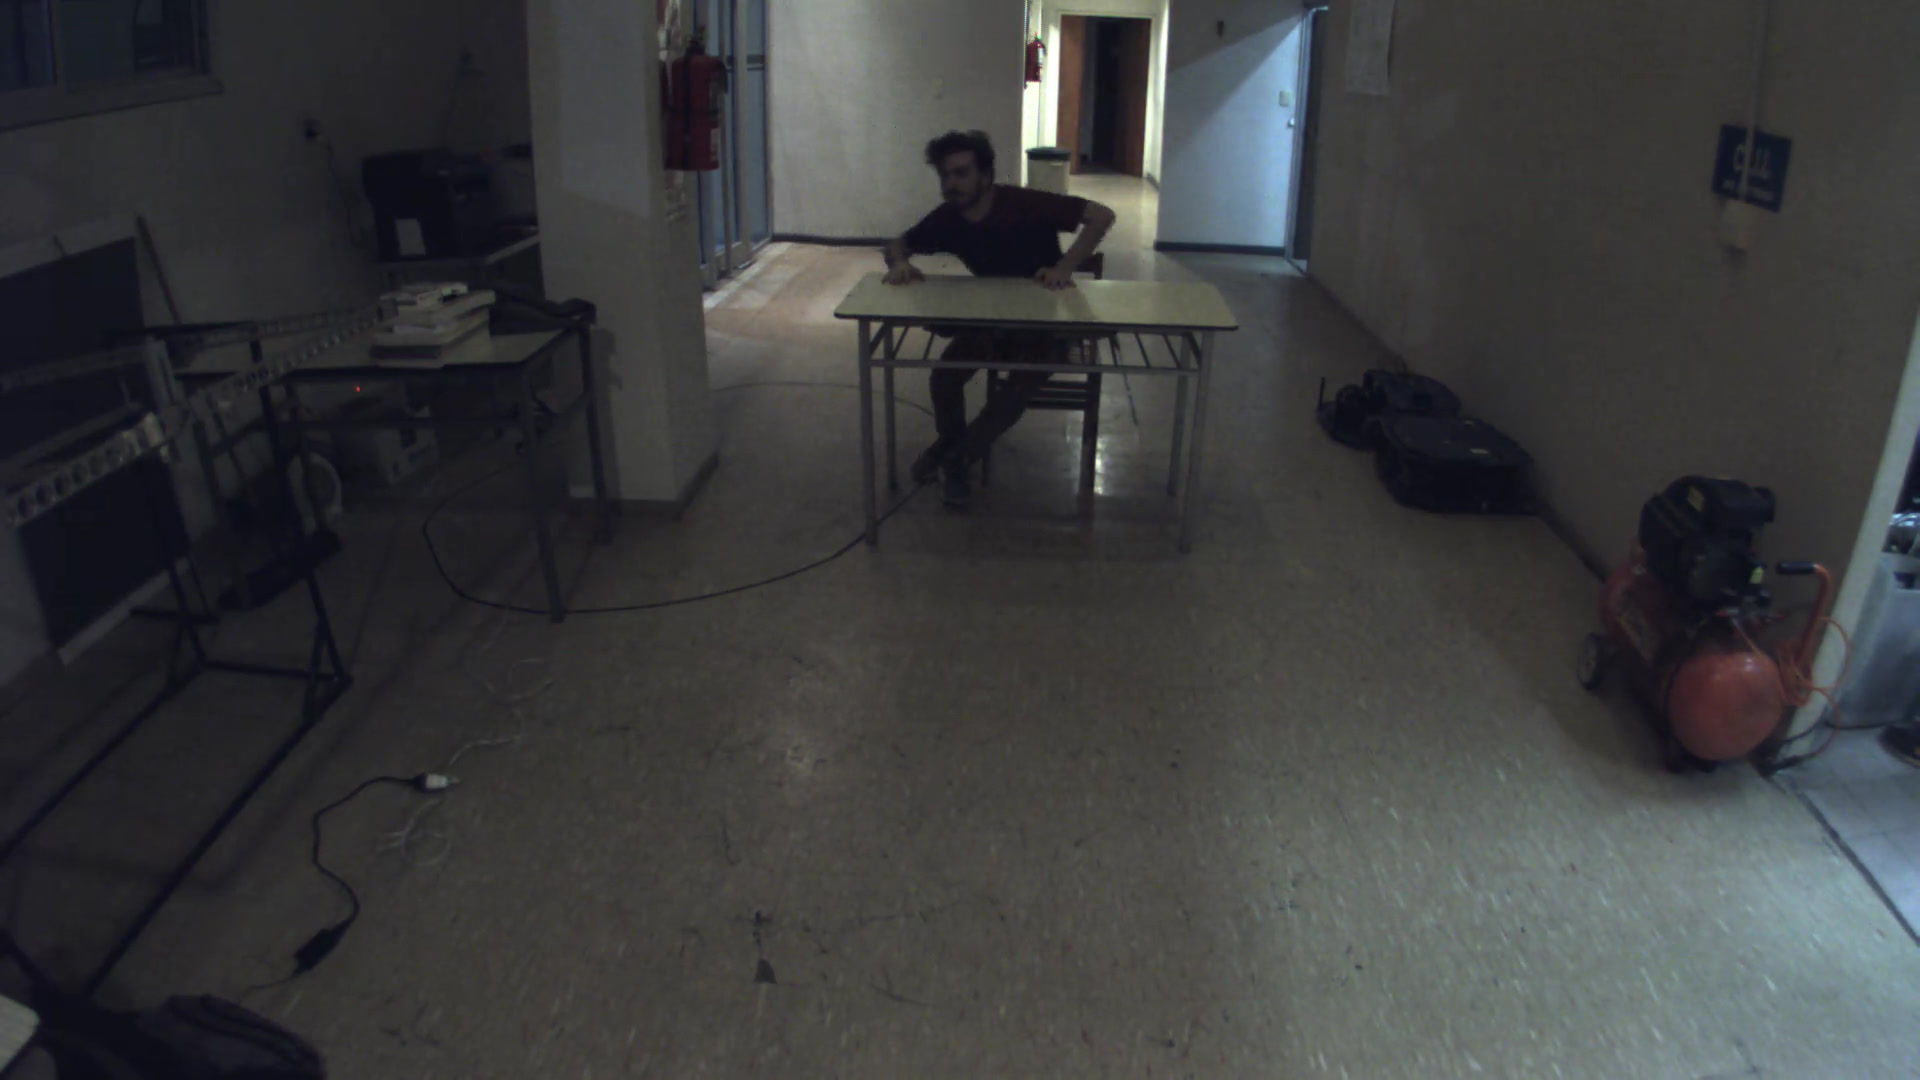hand: (1027, 249, 1096, 302), (872, 253, 932, 289)
